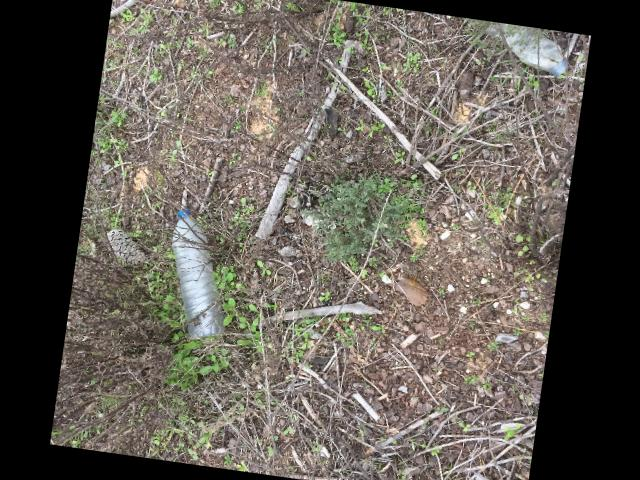plastic: (171, 210, 224, 338), (500, 23, 565, 77)
